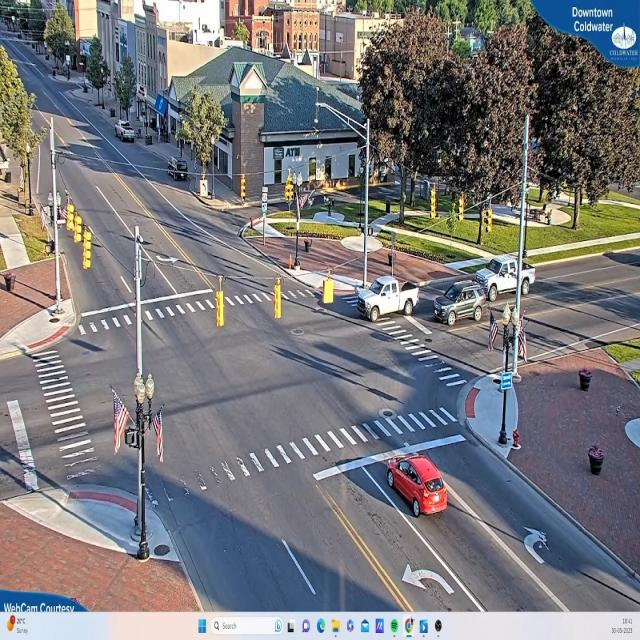car: (386, 455, 450, 519), (352, 272, 424, 326), (430, 282, 487, 330), (116, 122, 136, 143)
